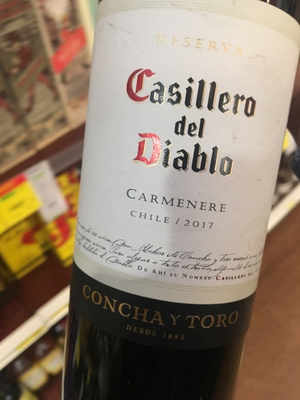casillero del diablo carmenere: (67, 5, 300, 391)
